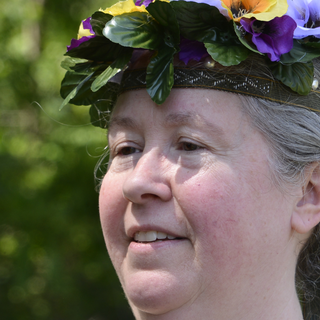eye: (169, 134, 215, 160), (112, 138, 148, 165)
